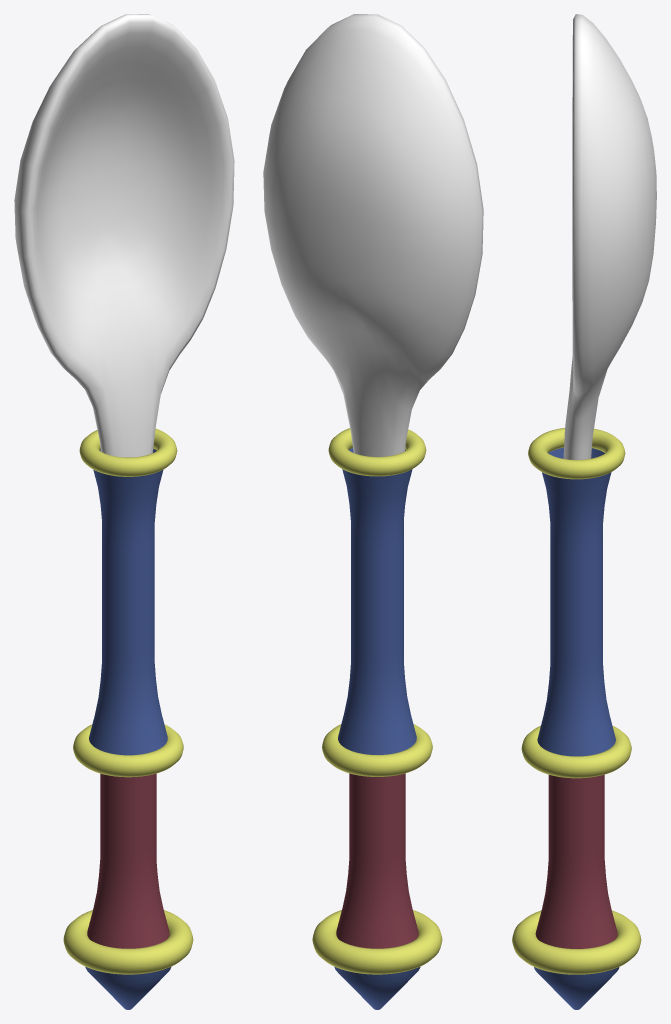
The model's file is Spoon.fbx.
3 views of the same model, side by side, from view 1: azimuth 30°, elevation 25°; view 2: azimuth 150°, elevation 25°; view 3: azimuth 270°, elevation 25° (orthographic).
Parts seen in each view (by area): view 1: Plane, Handle_Up, Handle_Up.001, Ring_Down, Ring_Middle, Ring_Up, Handle_Bottom; view 2: Plane, Handle_Up, Handle_Up.001, Ring_Down, Ring_Middle, Ring_Up, Handle_Bottom; view 3: Plane, Handle_Up, Handle_Up.001, Ring_Down, Ring_Up, Ring_Middle, Handle_Bottom.
Boxes of the visible parts, x1,y1,x2,y2 form: Plane: [14, 14, 234, 457]; Handle_Up: [89, 448, 167, 755]; Handle_Up.001: [87, 773, 169, 948]; Ring_Down: [63, 910, 193, 974]; Ring_Middle: [73, 724, 183, 777]; Ring_Up: [79, 428, 177, 476]; Handle_Bottom: [85, 967, 171, 1009]; Plane: [263, 14, 483, 456]; Handle_Up: [338, 448, 416, 754]; Handle_Up.001: [336, 773, 418, 948]; Ring_Down: [312, 910, 442, 974]; Ring_Middle: [322, 724, 432, 776]; Ring_Up: [328, 428, 426, 476]; Handle_Bottom: [334, 966, 420, 1009]; Plane: [563, 14, 656, 459]; Handle_Up: [537, 447, 615, 756]; Handle_Up.001: [535, 774, 617, 948]; Ring_Down: [512, 910, 641, 974]; Ring_Up: [528, 428, 625, 479]; Ring_Middle: [521, 725, 631, 778]; Handle_Bottom: [534, 967, 619, 1009].
Size of the model in its own units: 69.42 by 309 by 41.1.
